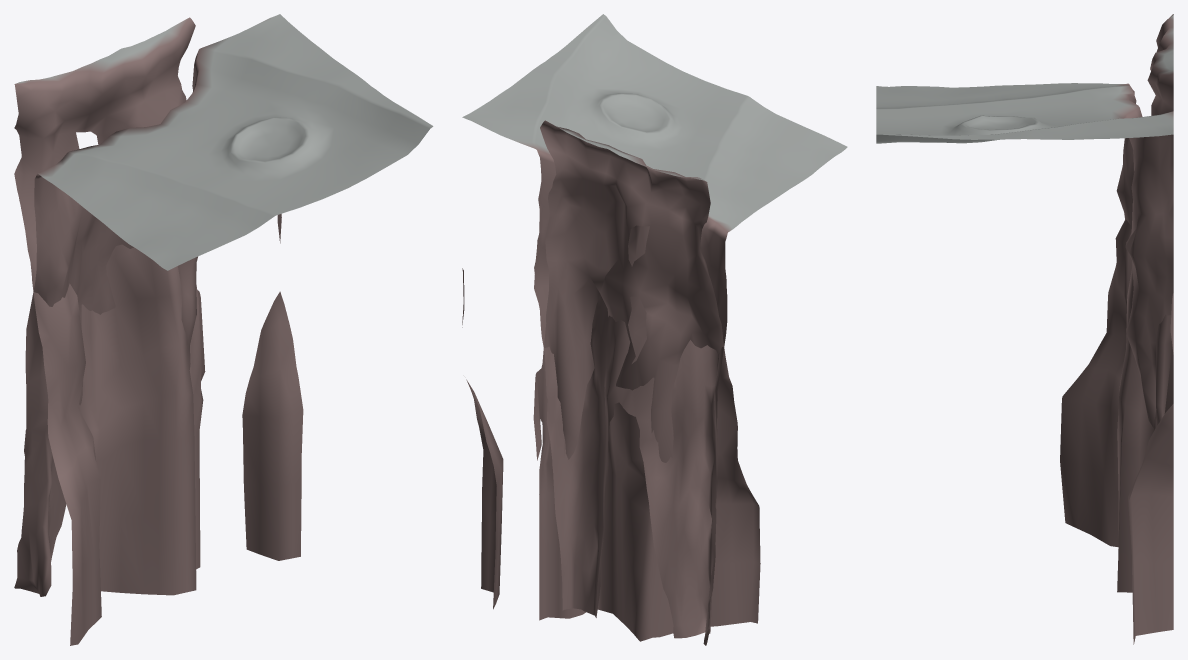
3 views of the same model, side by side, from view 1: azimuth 30°, elevation 25°; view 2: azimuth 150°, elevation 25°; view 3: azimuth 270°, elevation 25° (orthographic). The views are drawn at different scales.
Visible parts, largest first — view 1: G:\FFXIV-MapTools\exports\u5f1\bg\ex4\04_uvs_u5\fld\u5f1\bgp (×11); view 2: G:\FFXIV-MapTools\exports\u5f1\bg\ex4\04_uvs_u5\fld\u5f1\bgp (×9); view 3: G:\FFXIV-MapTools\exports\u5f1\bg\ex4\04_uvs_u5\fld\u5f1\bgp (×9).
Part boxes in pixels (x1=…): G:\FFXIV-MapTools\exports\u5f1\bg\ex4\04_uvs_u5\fld\u5f1\bgp (×11): x1=14, y1=14, x2=433, y2=645; G:\FFXIV-MapTools\exports\u5f1\bg\ex4\04_uvs_u5\fld\u5f1\bgp (×9): x1=462, y1=14, x2=847, y2=645; G:\FFXIV-MapTools\exports\u5f1\bg\ex4\04_uvs_u5\fld\u5f1\bgp (×9): x1=876, y1=14, x2=1173, y2=644.
Size of the model in its own units: 128 by 251 by 128.
